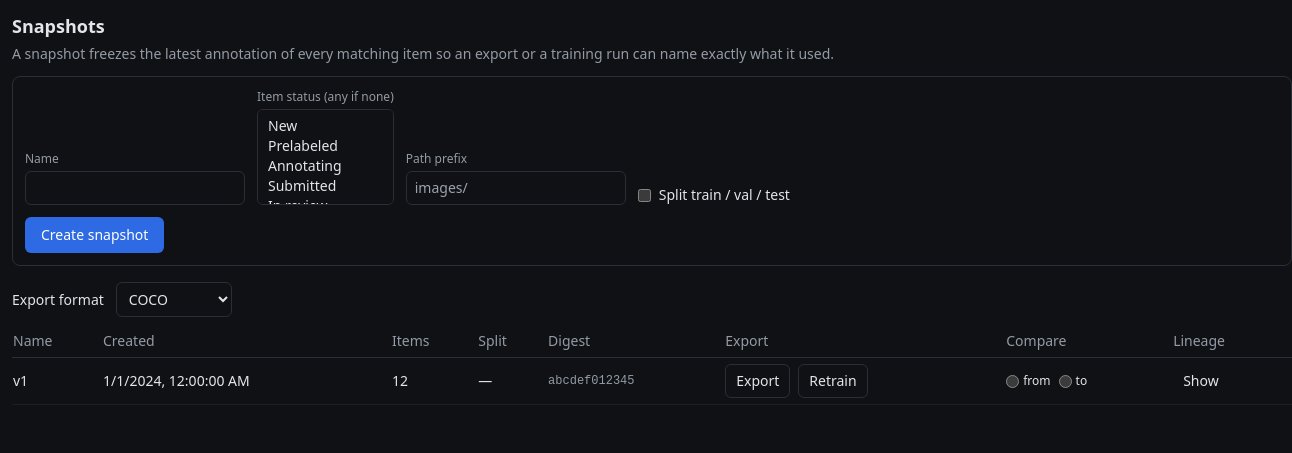
Test case: SnapshotsPanel › asks for two different snapshots
The image size is (1292, 453).
Check: the row with test id "snapshot-row-s1" is shown, box left=12, top=358, right=1291, bottom=404
Click the radio button with aria-label "Compare from v1" at (1013, 381), box left=1006, top=374, right=1019, bottom=388
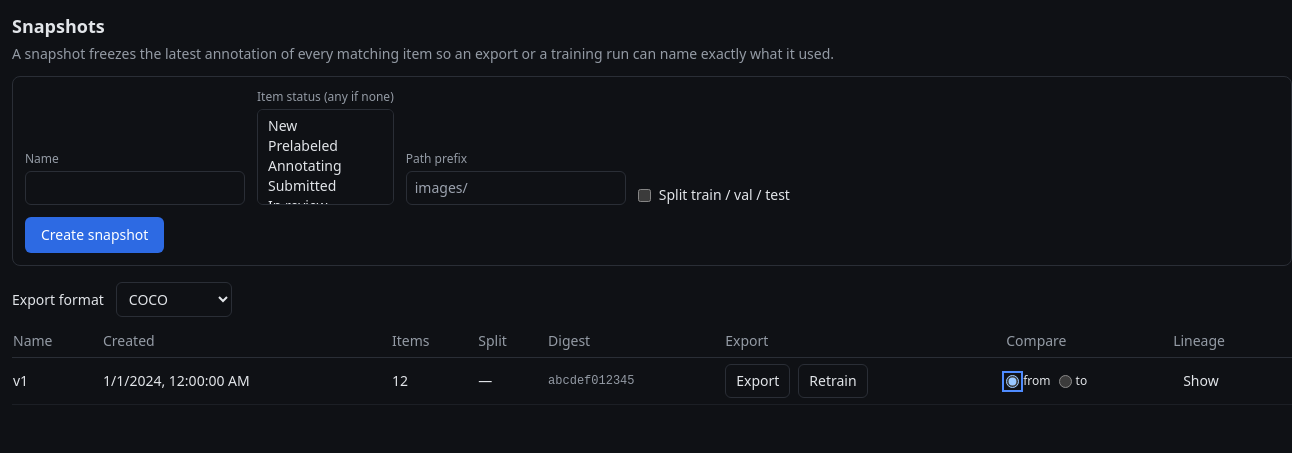
Click the radio button with aria-label "Compare to v1" at (1065, 381), box left=1058, top=374, right=1072, bottom=388
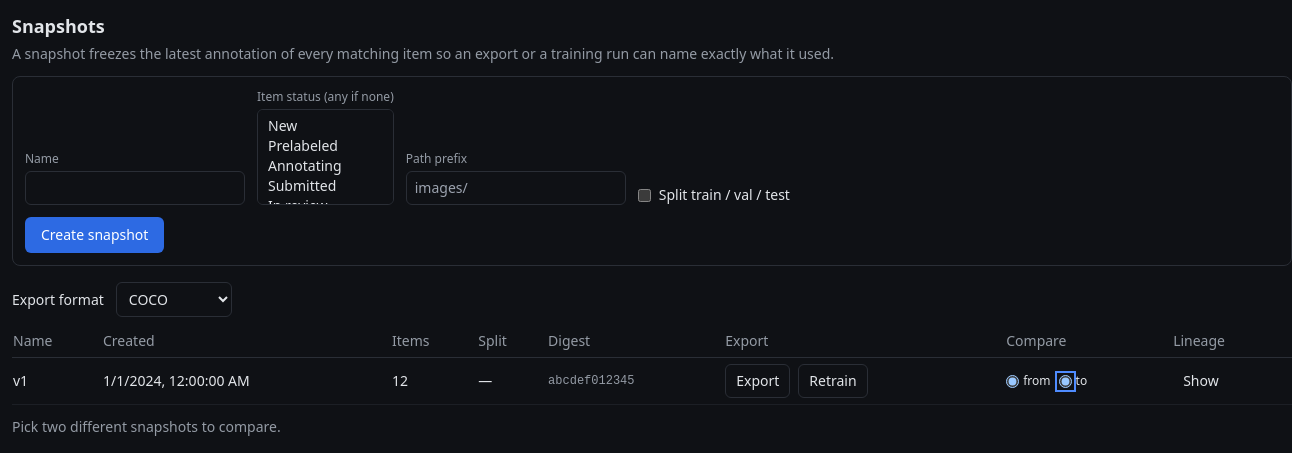
Check: the text "Pick two different snapshots to compare." is shown, box left=12, top=417, right=281, bottom=436
